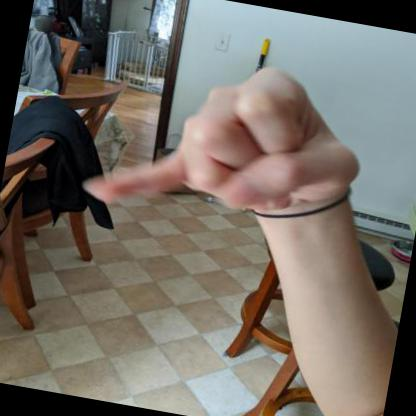J: (82, 66, 359, 257)
